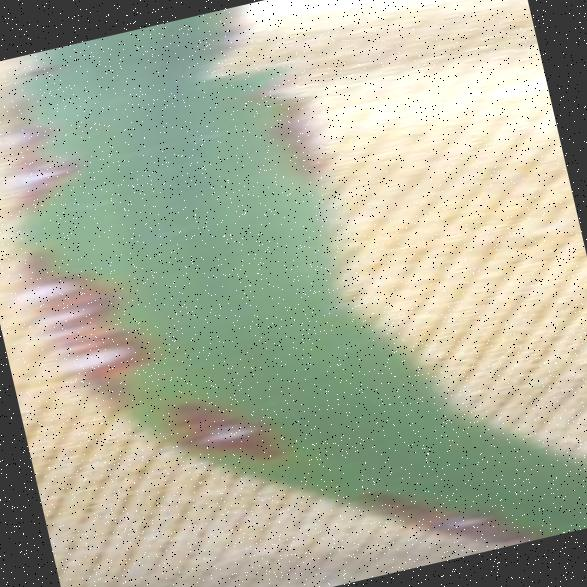Leaf_smut: (150, 372, 286, 485), (0, 241, 127, 333), (386, 464, 508, 552), (44, 318, 148, 390), (33, 286, 150, 346), (0, 140, 94, 201), (0, 96, 65, 165)
